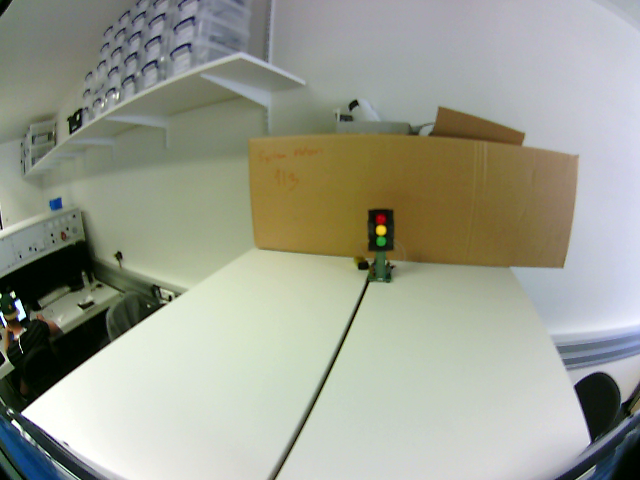yellow trafficlight: (371, 210, 391, 251)
